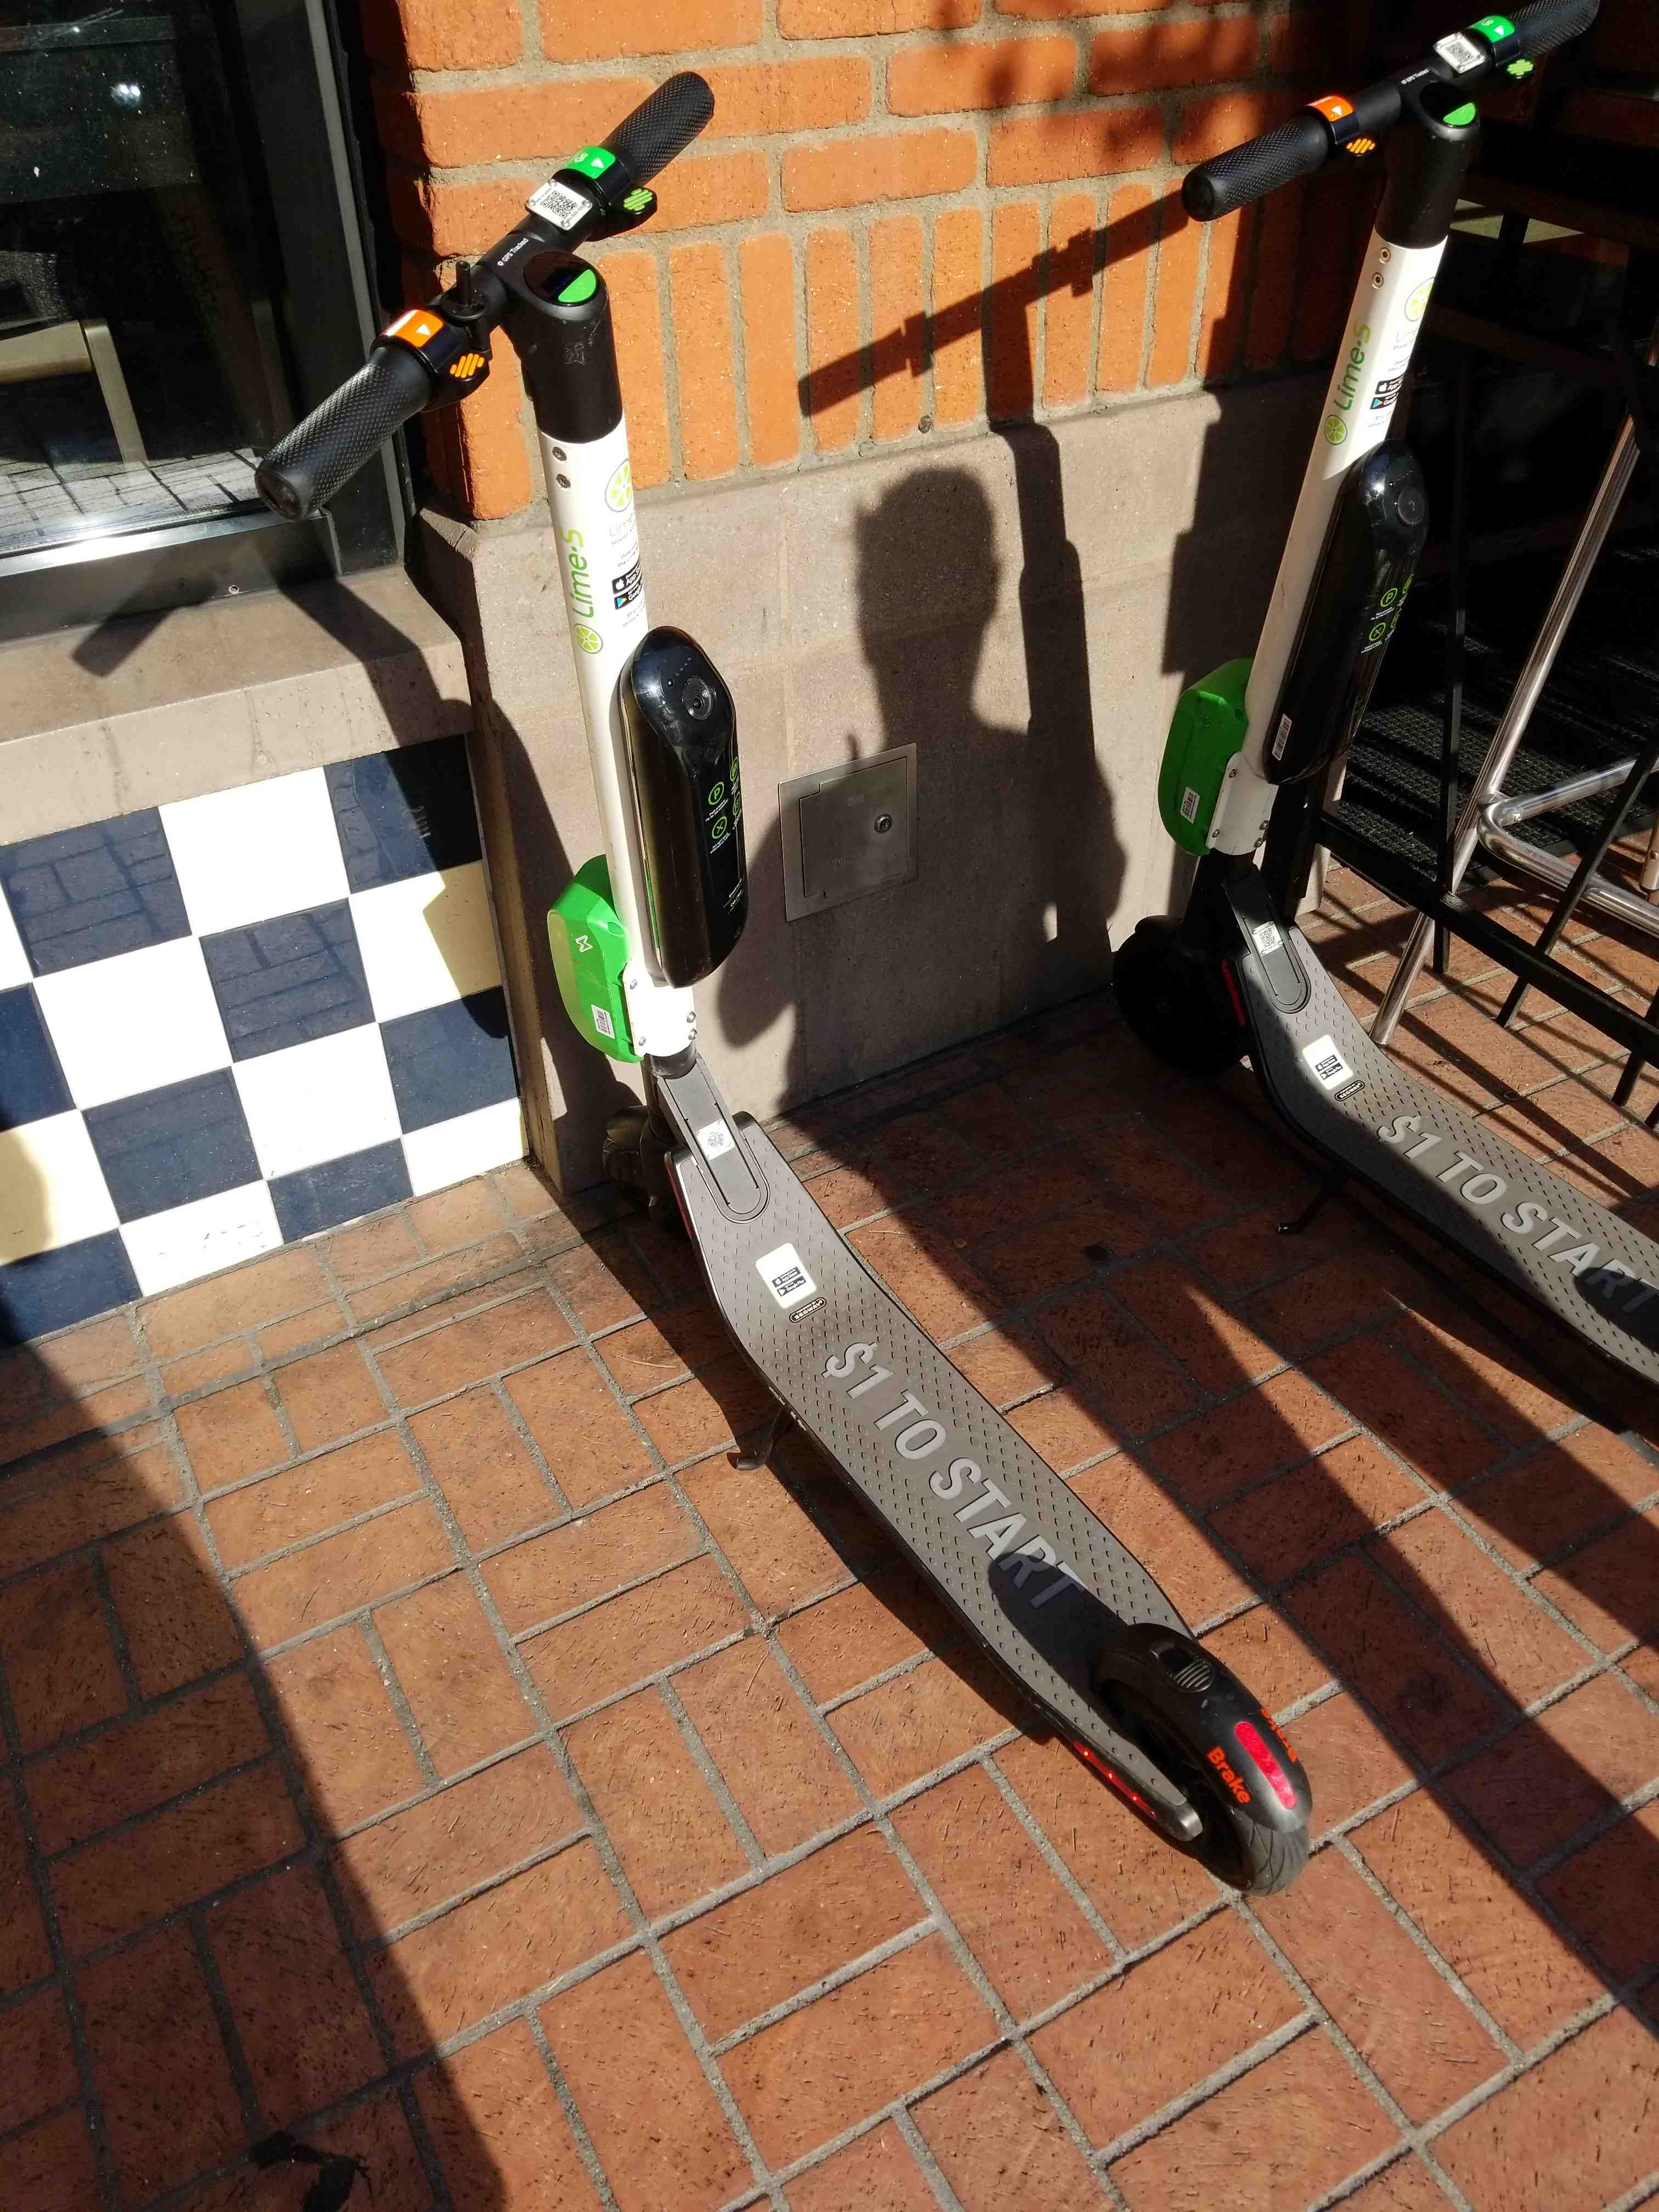scooter: (206, 61, 1356, 1912)
